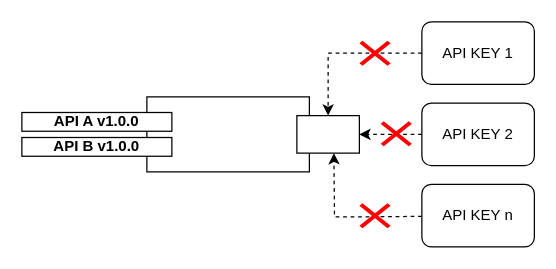
The diagram is 556 pixels wide and 269 high, and some of its shapes have lost their labels. The shapes that lost their labels are listed below. From the top down, each one's centre as x and y in pixels, then its label:
point 227,134: Usage Plan
point 327,133: Stage
